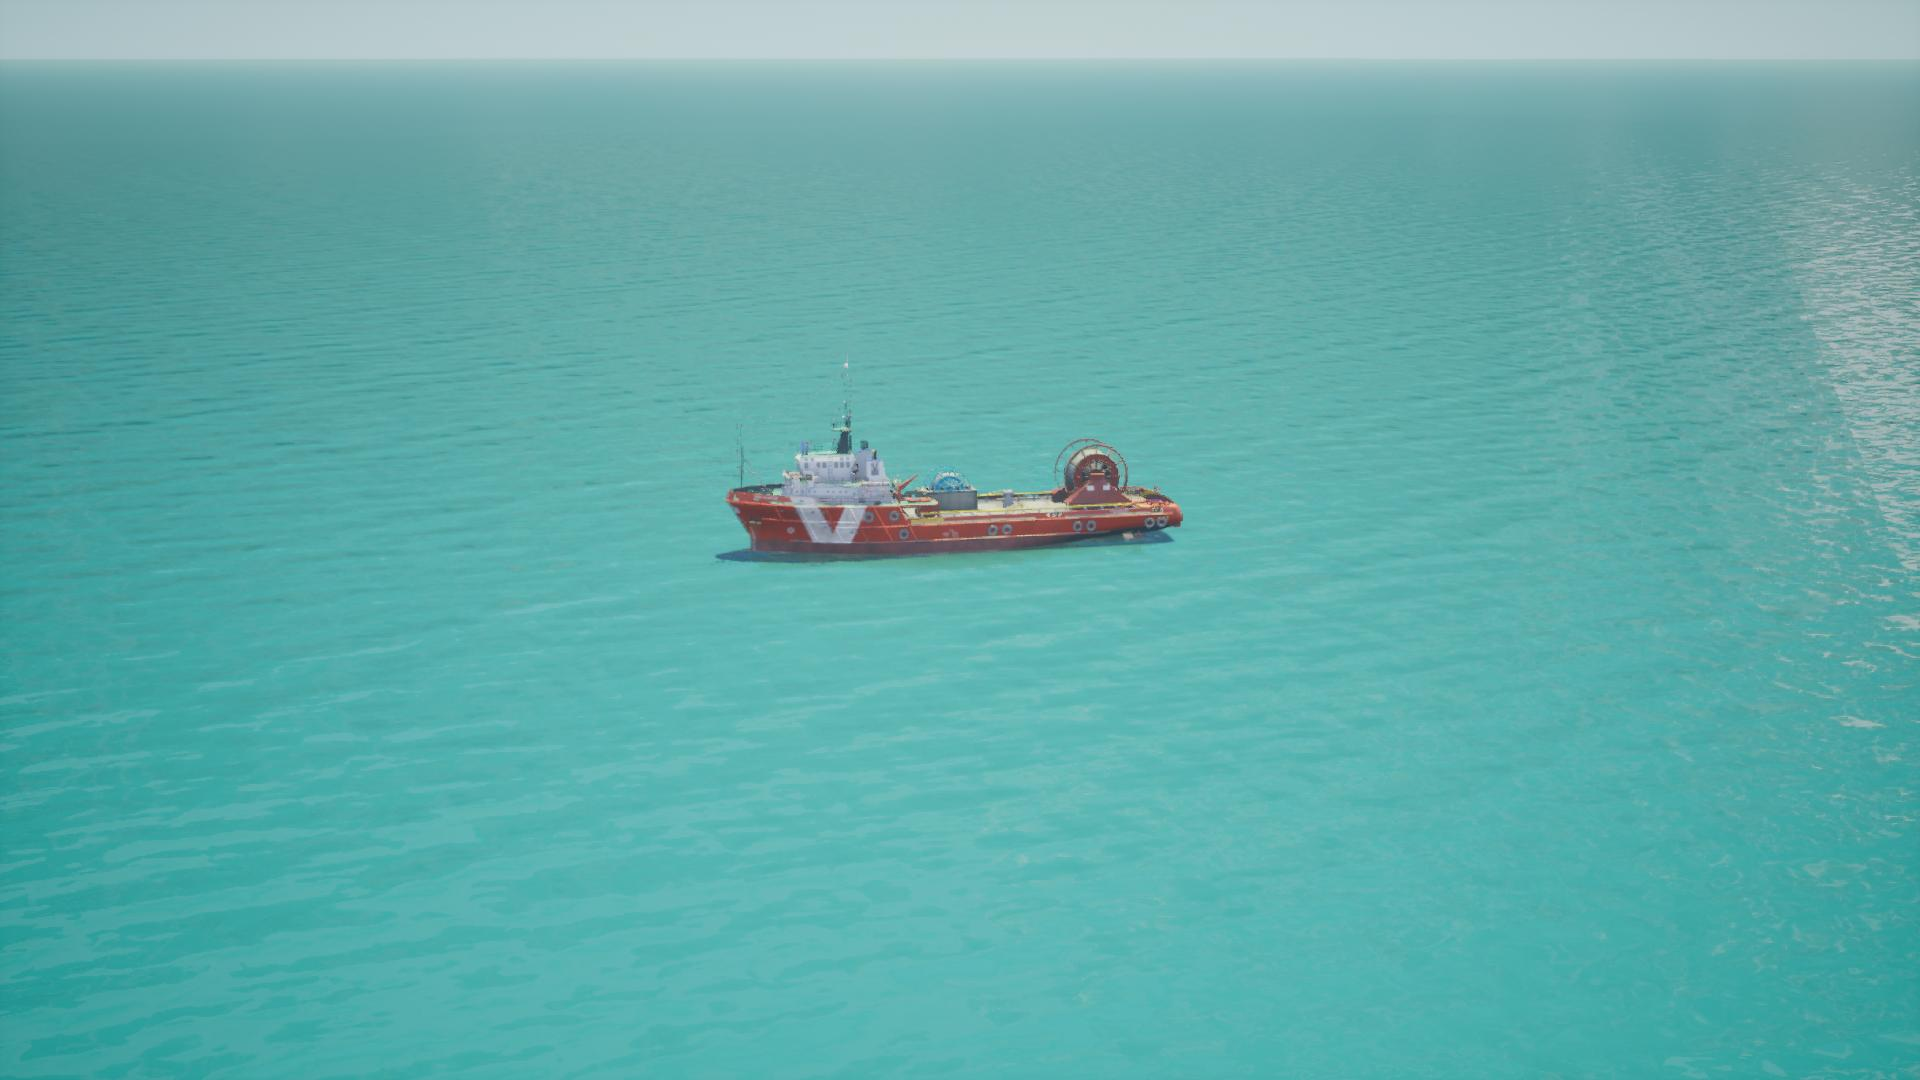Tug Boat: (720, 409, 1179, 566)
